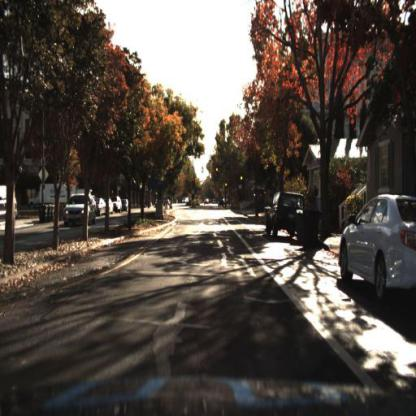car: (340, 195, 416, 302), (265, 191, 308, 239), (60, 187, 97, 225), (95, 195, 110, 220), (107, 196, 117, 217), (97, 199, 108, 218), (116, 195, 123, 214), (122, 196, 130, 212), (110, 197, 115, 218)
trafficLight: (213, 163, 220, 179)
trafficLight-Red: (224, 177, 230, 192), (240, 171, 245, 189)
trafficLight-RedLeft: (190, 178, 198, 194)
trafficLight-Yellow: (239, 173, 246, 185), (224, 180, 231, 188)
truck: (29, 179, 81, 211), (25, 182, 71, 206)
